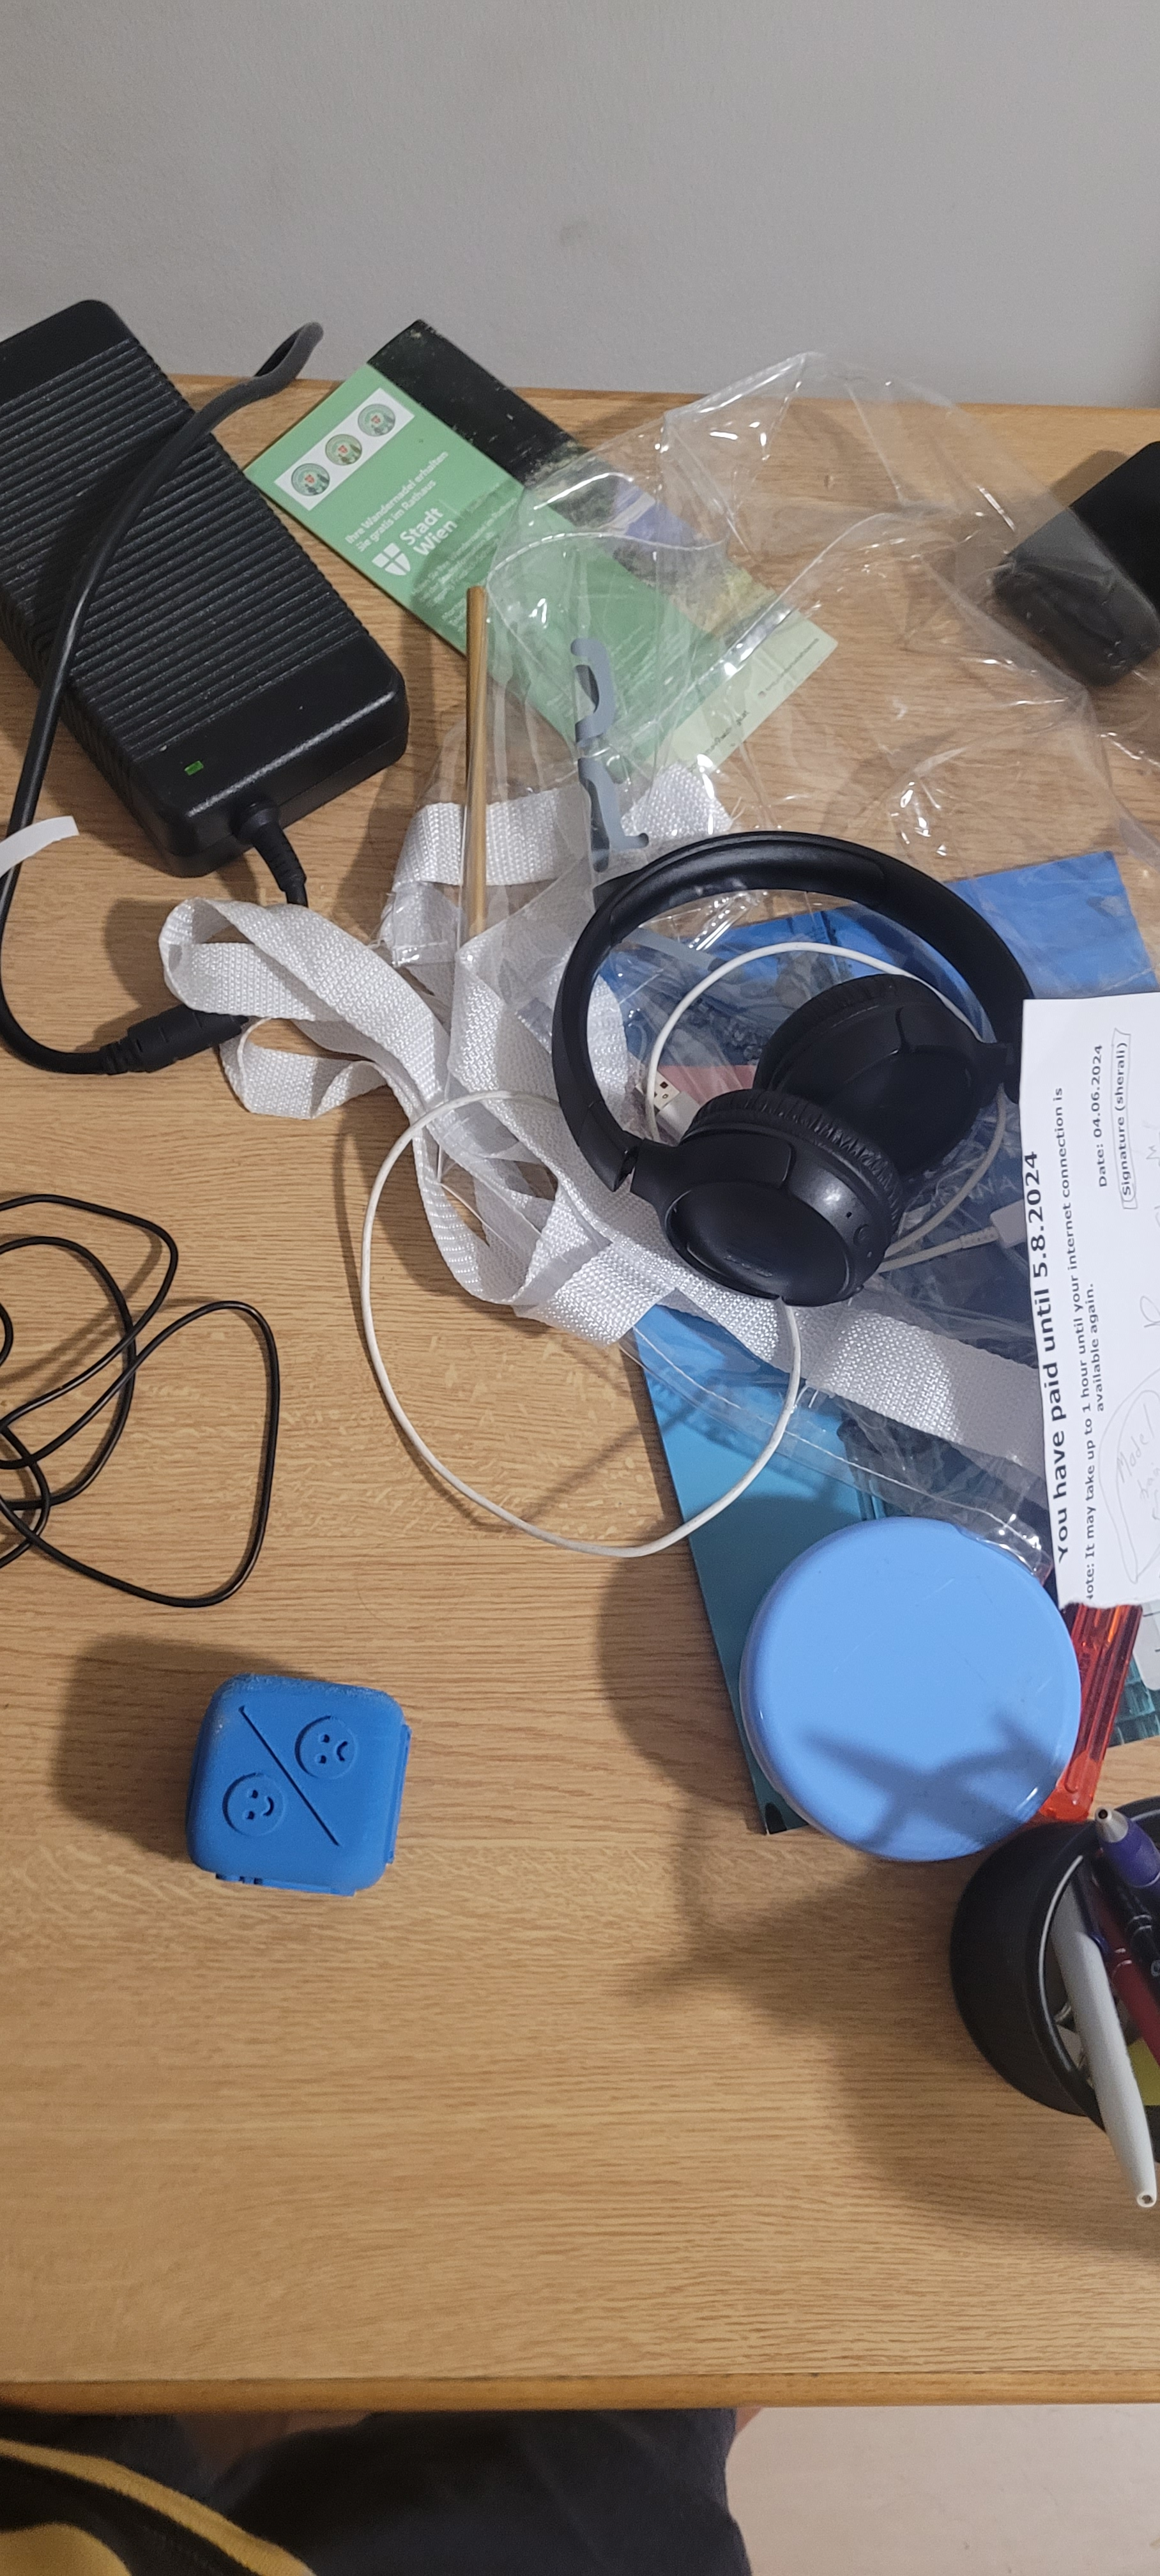Like/Dislike: (174, 1682, 426, 1881)
